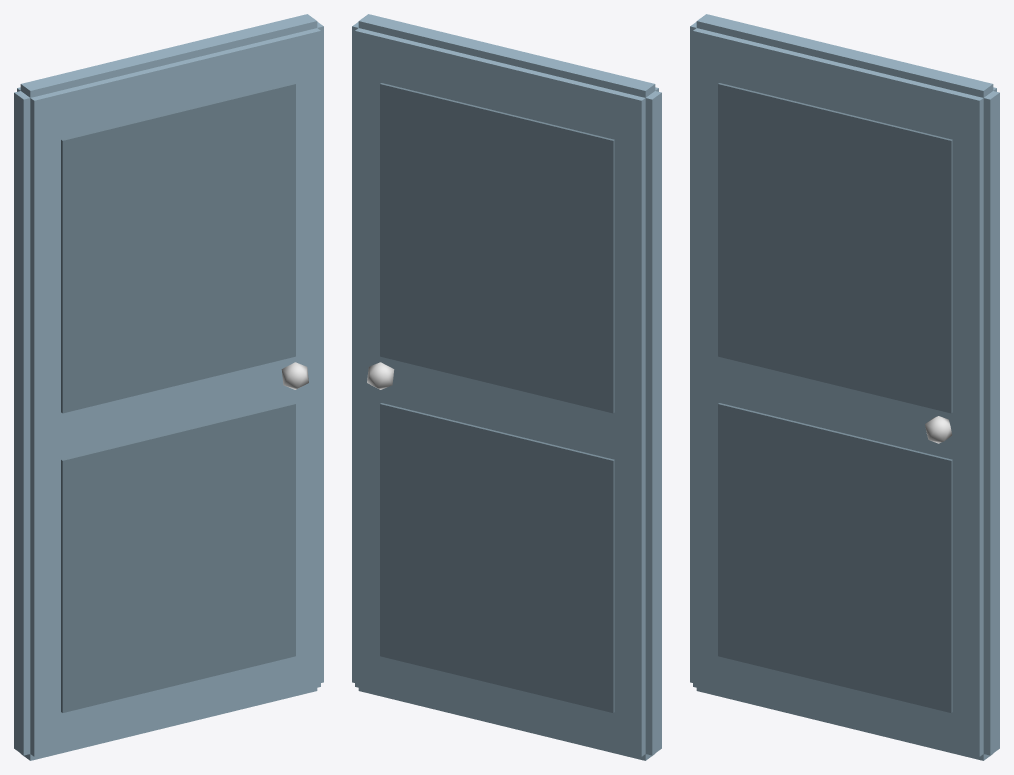
File: glass_door_v0.glb
The picture shows the model from 3 angles, left to right: view 1: azimuth 30°, elevation 25°; view 2: azimuth 150°, elevation 25°; view 3: azimuth 330°, elevation 25°; orthographic projection.
Visible parts, largest first — view 1: glass_door_v0; view 2: glass_door_v0; view 3: glass_door_v0.
Boxes of the visible parts, x1,y1,x2,y2 form: glass_door_v0: (14, 14, 323, 760); glass_door_v0: (352, 14, 661, 760); glass_door_v0: (690, 14, 999, 760).
Bounding box in the file's own units: 0.9 × 1.92 × 0.2381.
